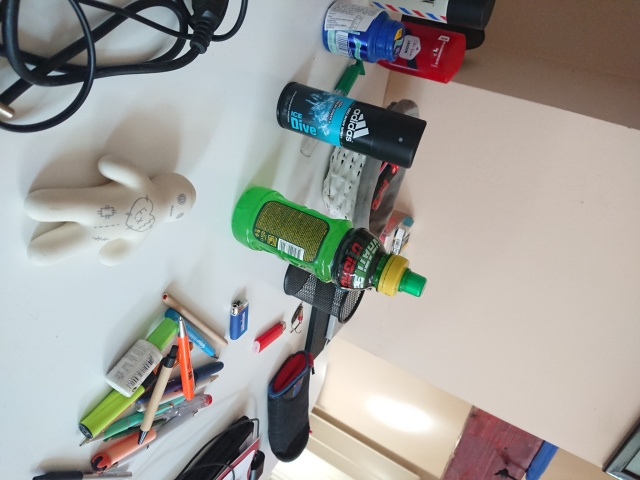Vindi Iso Sport Lemon-Grapefruit 500mL: (228, 183, 429, 300)
